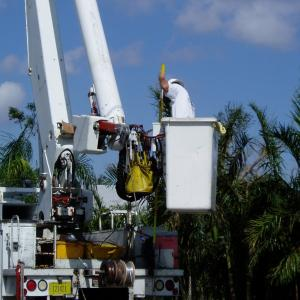Vehicle-registration-plate: (48, 281, 73, 296)
